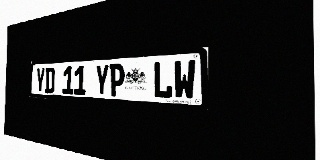1: (74, 65, 86, 95), (62, 66, 74, 94)
D: (45, 67, 55, 93)
L: (153, 61, 173, 99)
P: (109, 63, 125, 97)
W: (173, 59, 196, 100)
Y: (95, 64, 109, 96), (36, 68, 45, 93)
